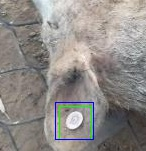text: (59, 106, 91, 139)
